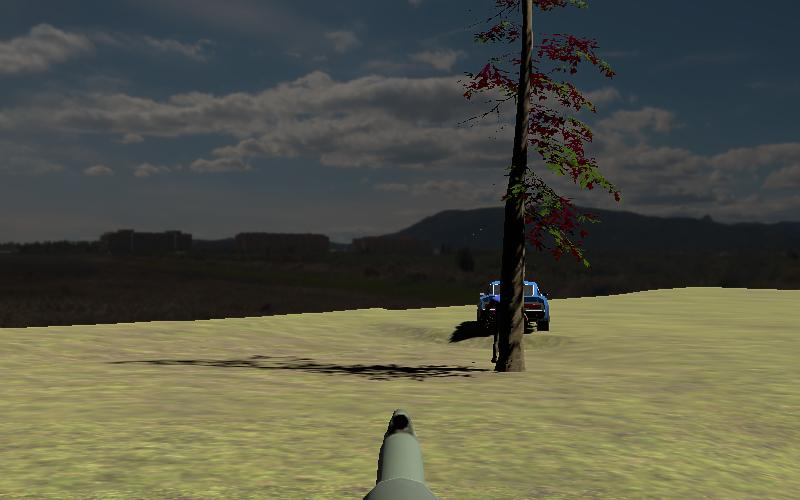car: (474, 275, 552, 335)
